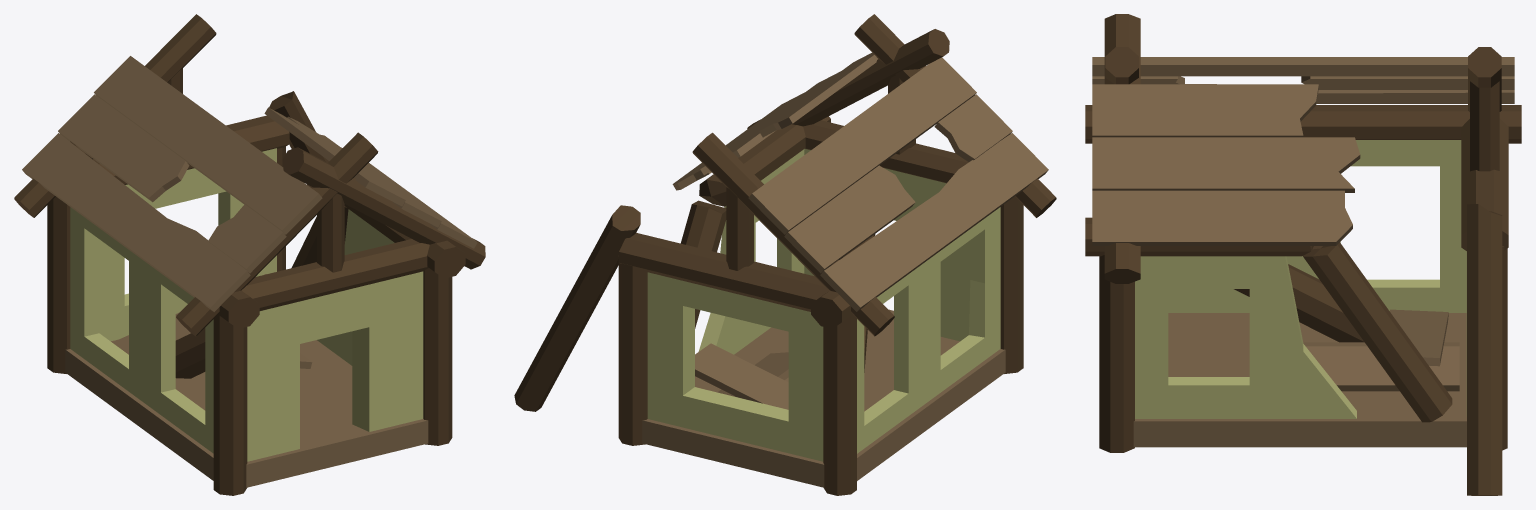
Rendered from zniszczony domek.fbx.
The picture shows the model from 3 angles, left to right: view 1: azimuth 30°, elevation 25°; view 2: azimuth 150°, elevation 25°; view 3: azimuth 270°, elevation 25°; orthographic projection. The views are drawn at different scales.
Parts seen in each view (by area): view 1: Cube.002; view 2: Cube.002; view 3: Cube.002.
Boxes of the visible parts, x1=… form: Cube.002: x1=14, y1=14, x2=485, y2=495; Cube.002: x1=514, y1=14, x2=1056, y2=495; Cube.002: x1=1085, y1=14, x2=1521, y2=495.
Bounding box in the file's own units: 2652 × 2167 × 2388.
